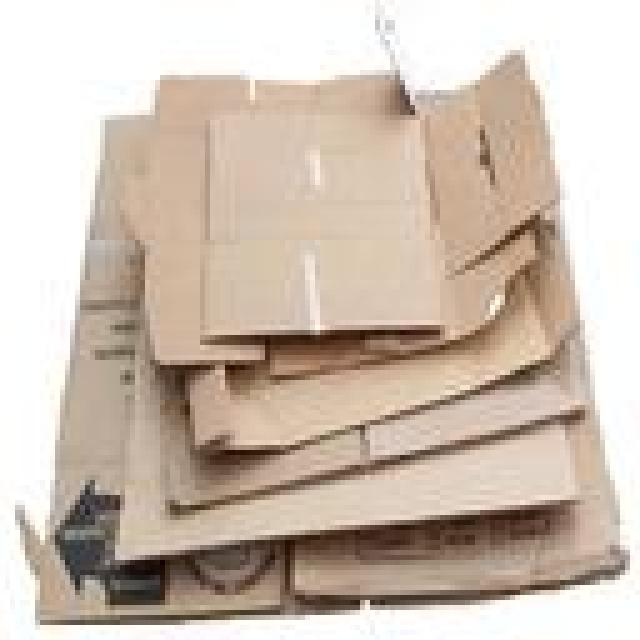cardboard: (15, 180, 620, 620), (95, 105, 575, 445), (100, 275, 580, 560), (150, 240, 590, 510), (135, 70, 530, 360), (190, 45, 550, 330)
